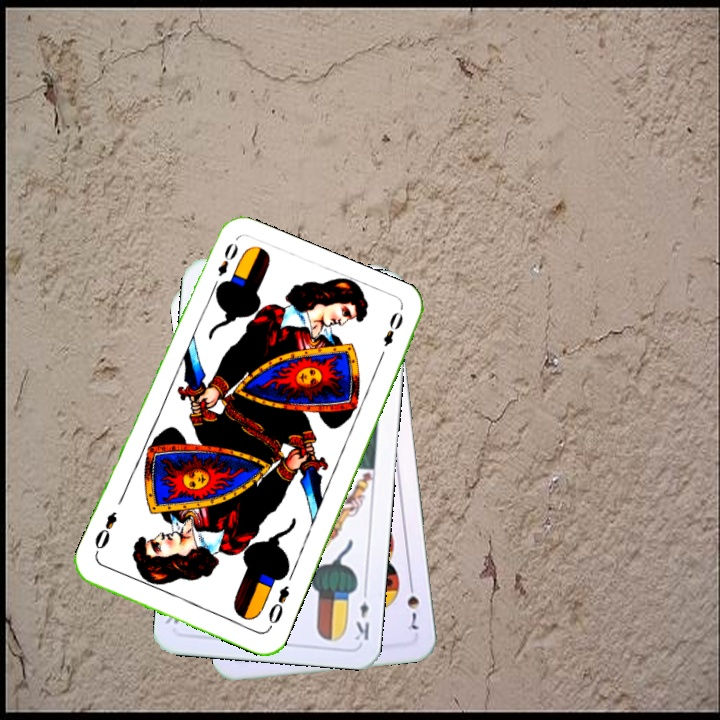EK: (351, 584, 372, 643)
EO: (264, 581, 292, 632), (213, 238, 241, 279)
S7: (403, 576, 422, 635)
